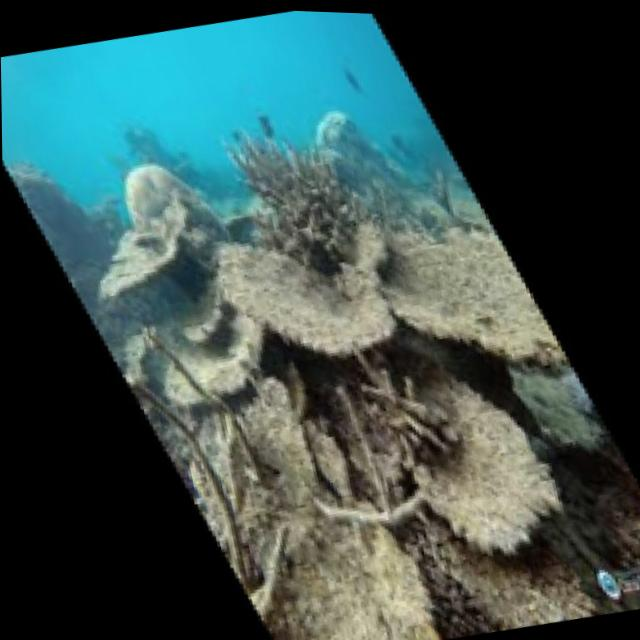Dead Coral: (148, 315, 526, 640), (304, 311, 581, 591), (364, 126, 572, 427), (160, 166, 410, 383), (46, 122, 220, 301), (228, 97, 377, 274)
